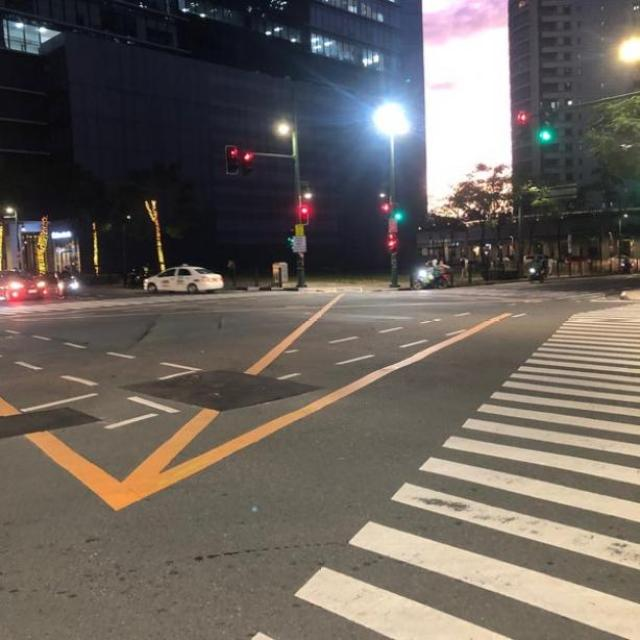pedestrian lane: (260, 304, 640, 637)
